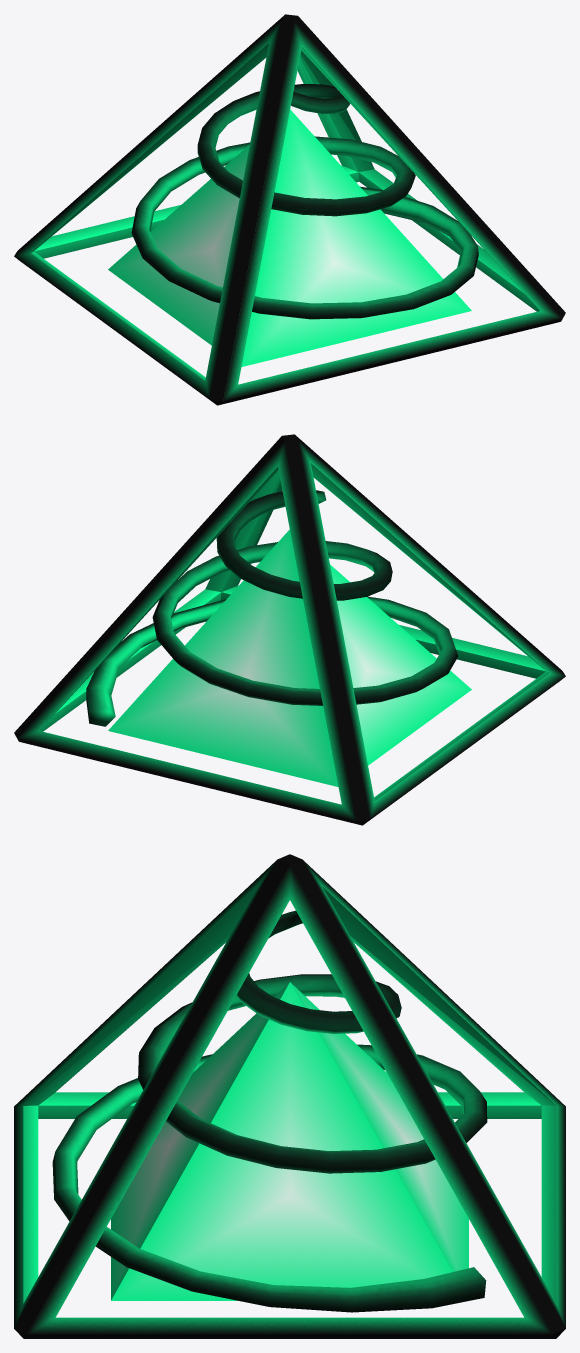
Rendered from Artifact04.FBX.
3 renders of one model, top to bottom at view 1: azimuth 30°, elevation 25°; view 2: azimuth 150°, elevation 25°; view 3: azimuth 270°, elevation 25°, orthographic. The views are drawn at different scales.
Parts seen in each view (by area): view 1: Artifact04; view 2: Artifact04; view 3: Artifact04.
Part boxes in pixels (x1,y1,x2,y2): Artifact04: (14, 14, 565, 405); Artifact04: (14, 434, 565, 825); Artifact04: (14, 854, 565, 1338).
Size of the model in its own units: 26.02 by 19.08 by 26.02.
